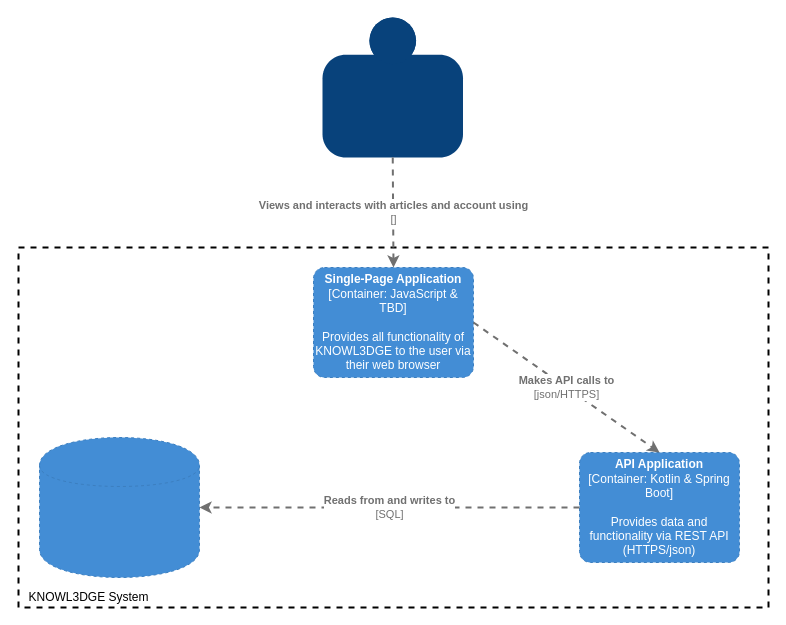
This 786x625 diagram has some shape labels left out. Here are the shapes that lost their labels. From the top down, the centre of each, then its label:
pixel 392 87: KNOWL3DGE User [Person] A user of the KNOWL3DGE web app
pixel 119 507: Database [Container: MYSQL] Stores user and article data
